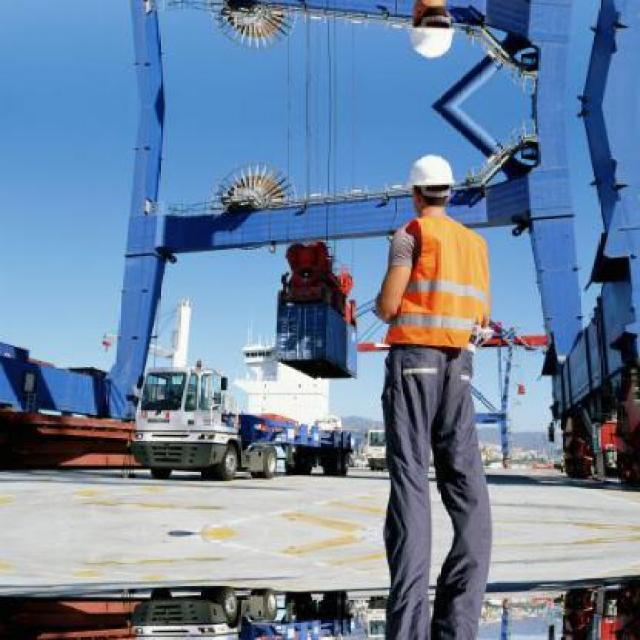Reflective-Jacket: (378, 210, 497, 364)
Safety-Helmet: (399, 148, 463, 197)
